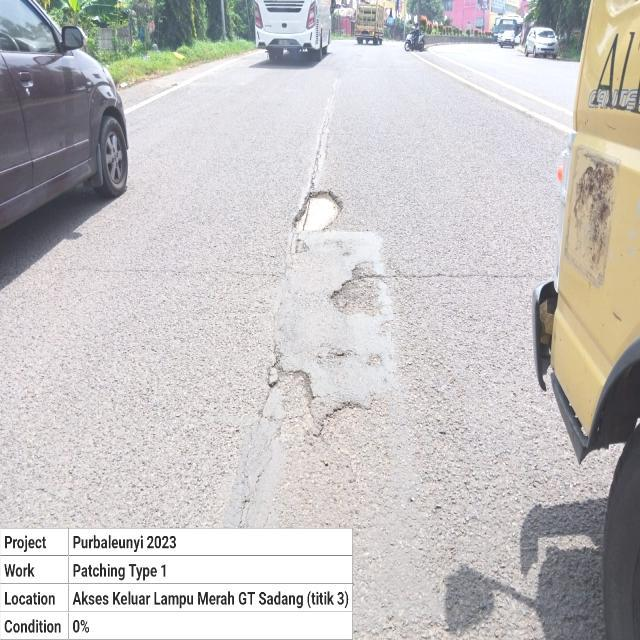Buraco: (290, 188, 346, 235)
